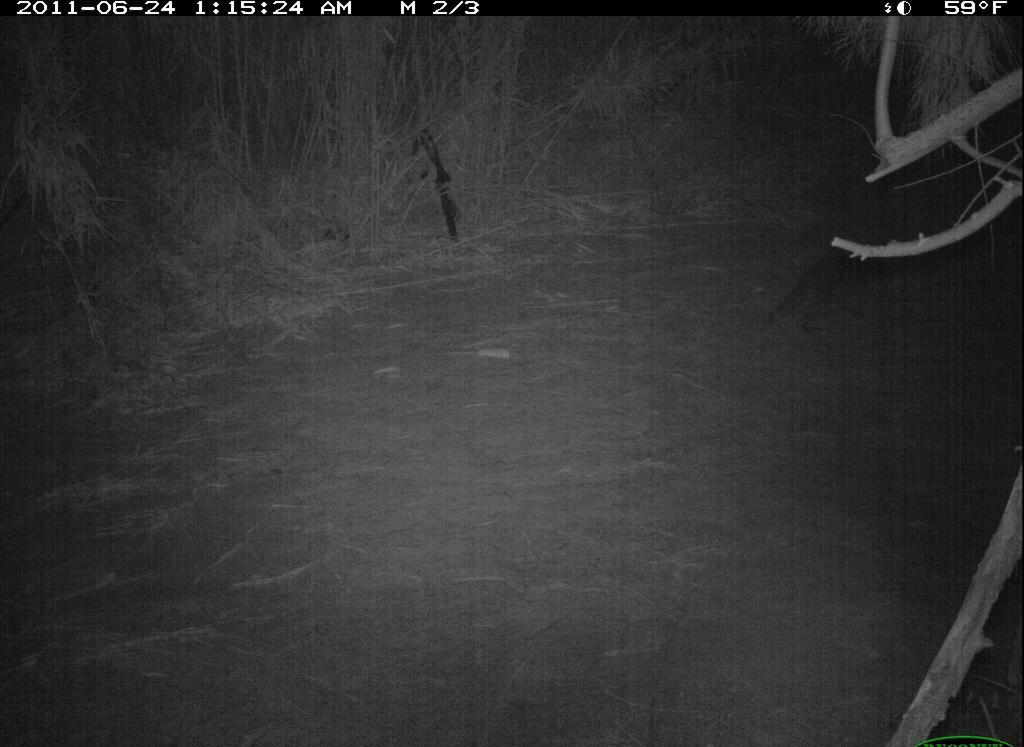raccoon: (765, 241, 931, 344)
